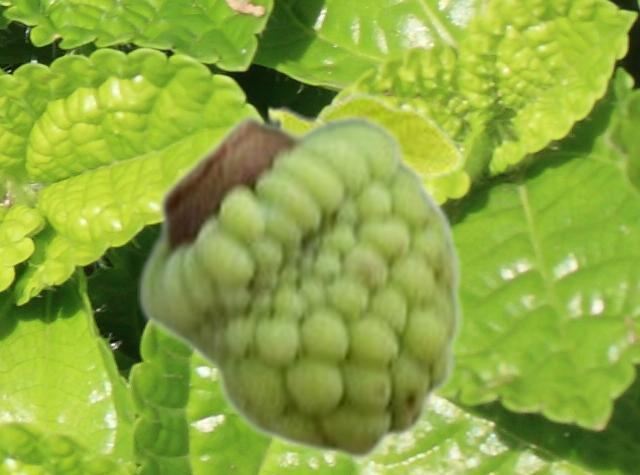atis: (137, 110, 465, 464), (262, 89, 465, 224)
